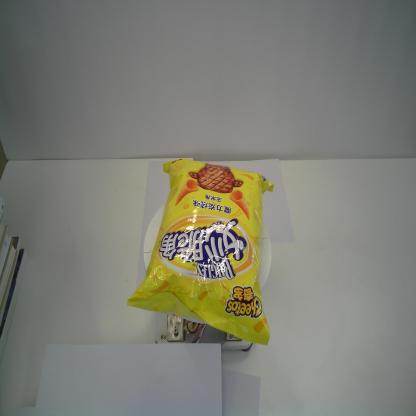Puffed Food: (125, 157, 275, 348)
